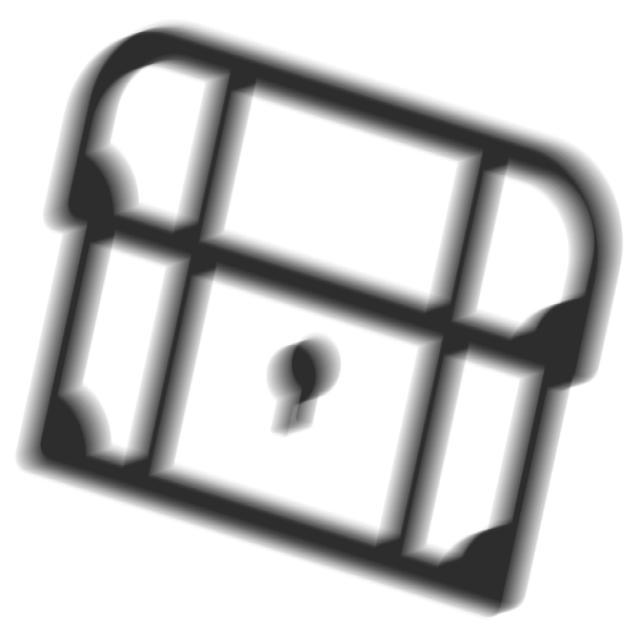treasure_box: (8, 23, 631, 626)
